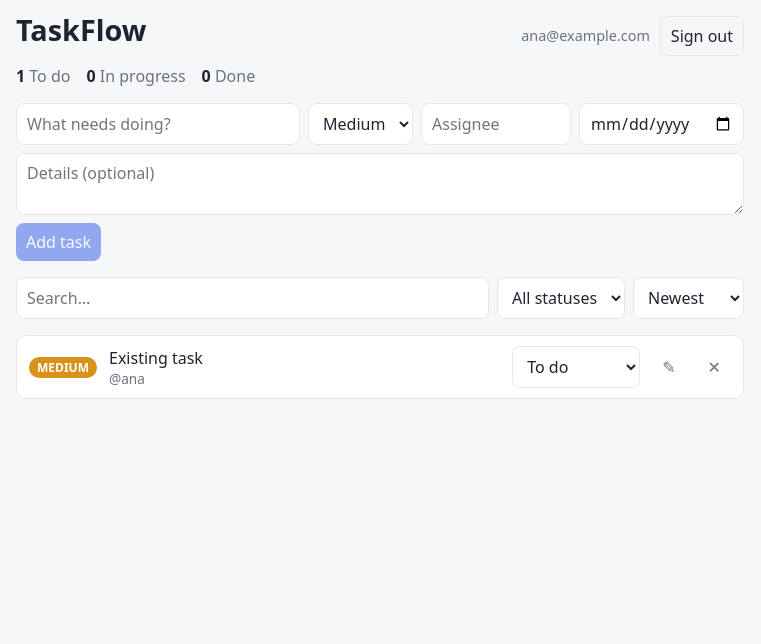
tasks › keeps the edit form open with an error when saving fails
Expected: the text "Existing task" is shown, left=109, top=346, right=203, bottom=368
Click the button named "Edit Existing task" at (669, 367), box left=652, top=348, right=686, bottom=386
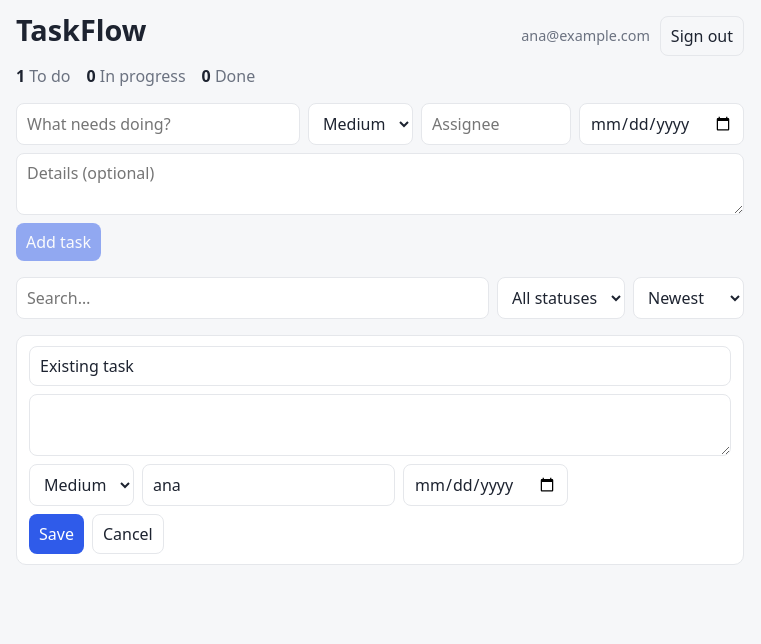
Type " v2" into the field named "Edit title" at (380, 366), box left=29, top=346, right=731, bottom=386
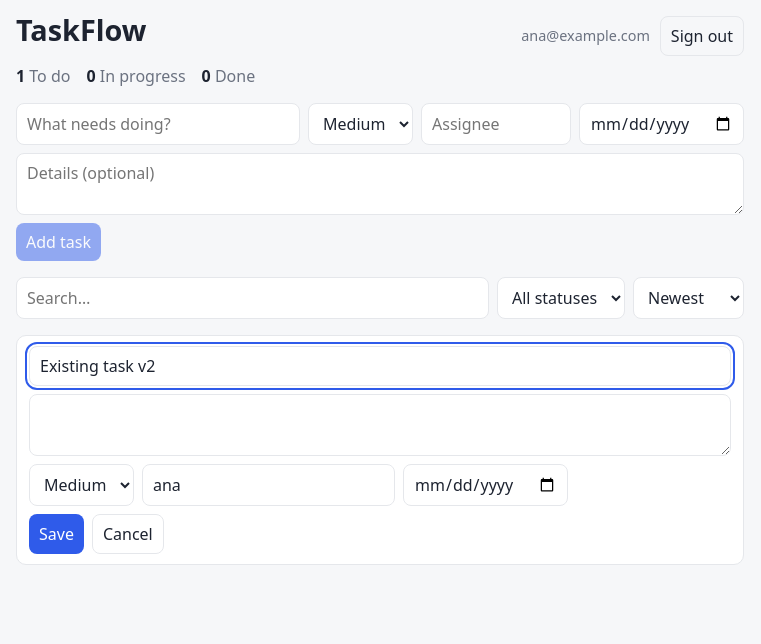
Click the button "Save" at (56, 534), box left=29, top=514, right=84, bottom=554
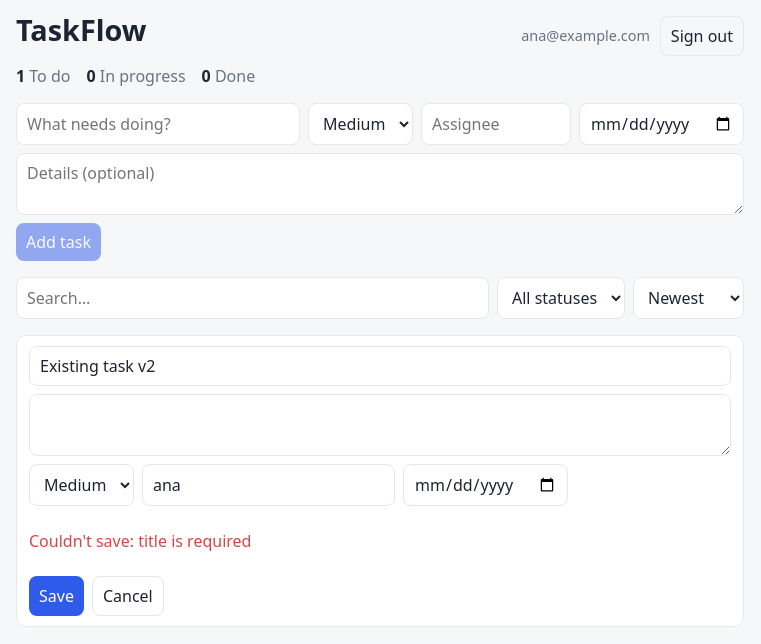
Now the field named "Edit title" holds "Existing task v2", box left=29, top=346, right=731, bottom=386
Now the message reads "Couldn't save: title is required", box left=29, top=530, right=251, bottom=552
